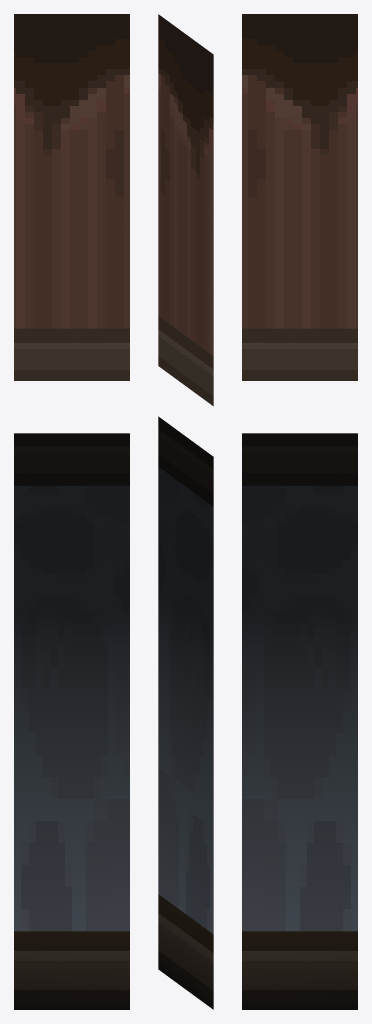
3 views of the same model, side by side, from view 1: azimuth 90°, elevation 25°; view 2: azimuth 210°, elevation 25°; view 3: azimuth 270°, elevation 25° (orthographic). The views are drawn at different scales.
Size of the model in its own units: 0 by 9.5 by 1.
5 materials, 5 textured.
